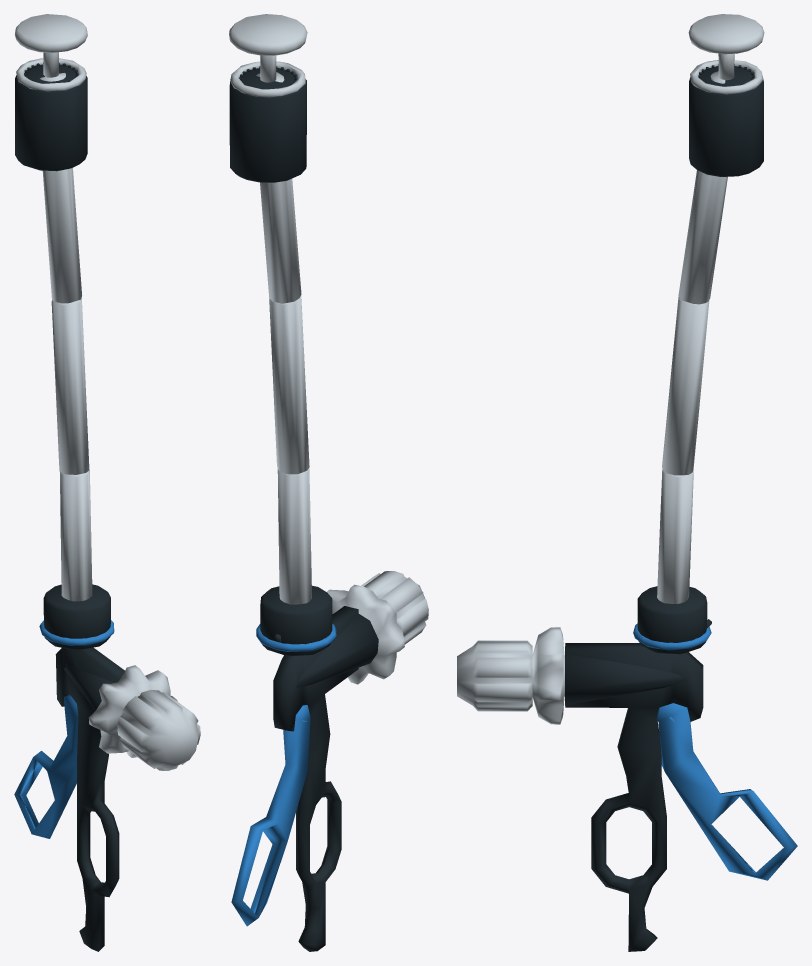
The model's file is inst_circular_stapler.fbx.
3 renders of one model, left to right at view 1: azimuth 30°, elevation 25°; view 2: azimuth 150°, elevation 25°; view 3: azimuth 270°, elevation 25°, orthographic. The views are drawn at different scales.
Visible parts, largest first — view 1: inst_circular_stapler_Geometry, Trigger_Geometry, Anvil_Geometry; view 2: inst_circular_stapler_Geometry, Trigger_Geometry, Anvil_Geometry; view 3: inst_circular_stapler_Geometry, Trigger_Geometry, Anvil_Geometry.
Part boxes in pixels (bbox=[...]): inst_circular_stapler_Geometry: bbox=[15, 58, 200, 951]; Trigger_Geometry: bbox=[14, 694, 78, 838]; Anvil_Geometry: bbox=[14, 14, 87, 77]; inst_circular_stapler_Geometry: bbox=[229, 61, 428, 951]; Trigger_Geometry: bbox=[231, 705, 310, 926]; Anvil_Geometry: bbox=[229, 14, 307, 82]; inst_circular_stapler_Geometry: bbox=[457, 60, 763, 951]; Trigger_Geometry: bbox=[656, 703, 797, 880]; Anvil_Geometry: bbox=[688, 14, 764, 80].
Size of the model in its own units: 0.0375 by 0.3764 by 0.1259.
